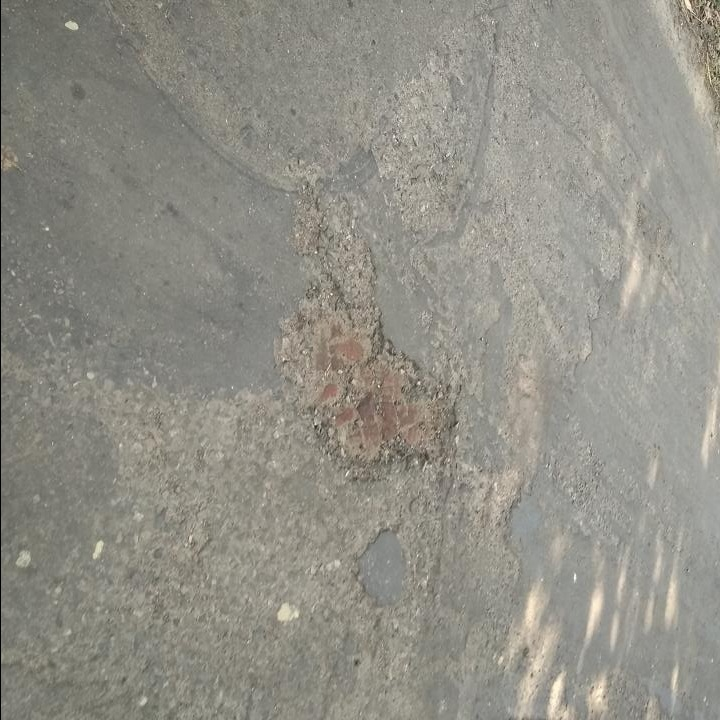pothole: (278, 282, 465, 484)
